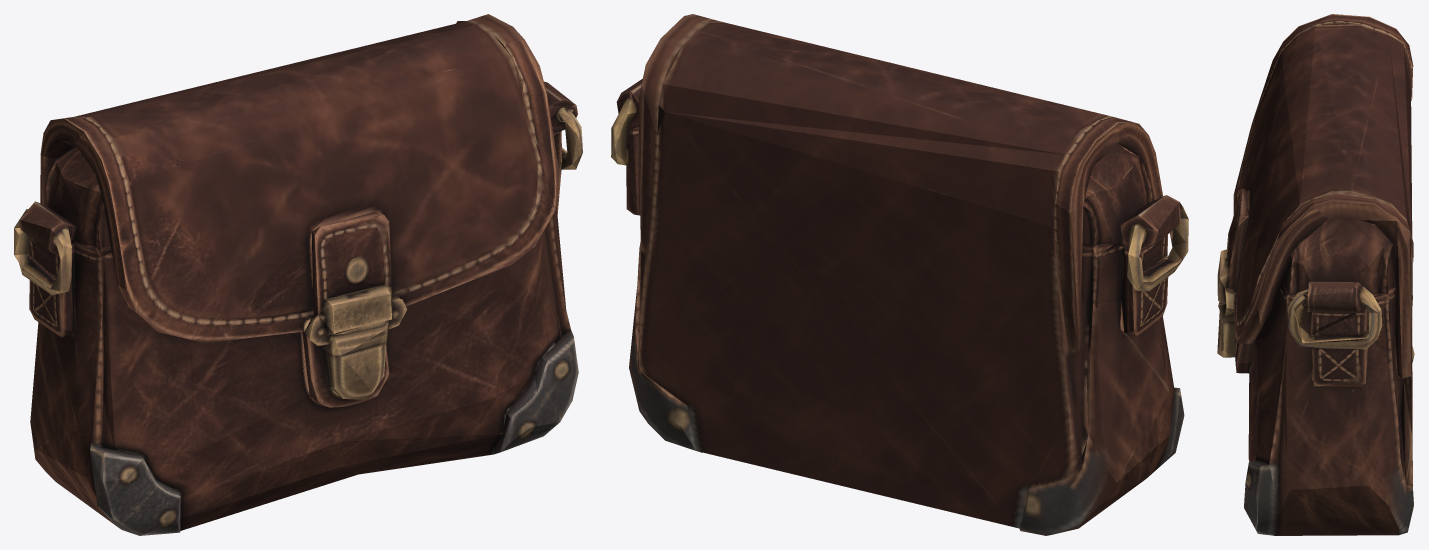
Rendered from SM_SharedGear_Bag.fbx.
The picture shows the model from 3 angles, left to right: view 1: azimuth 30°, elevation 25°; view 2: azimuth 150°, elevation 25°; view 3: azimuth 270°, elevation 25°; orthographic projection. The views are drawn at different scales.
Parts seen in each view (by area): view 1: SM_SharedGear_Bag; view 2: SM_SharedGear_Bag; view 3: SM_SharedGear_Bag.
Part boxes in pixels (bbox=[...]): SM_SharedGear_Bag: bbox=[14, 14, 582, 535]; SM_SharedGear_Bag: bbox=[611, 14, 1188, 535]; SM_SharedGear_Bag: bbox=[1217, 14, 1414, 535].
Bounding box in the file's own units: 45 × 31.41 × 16.13.
